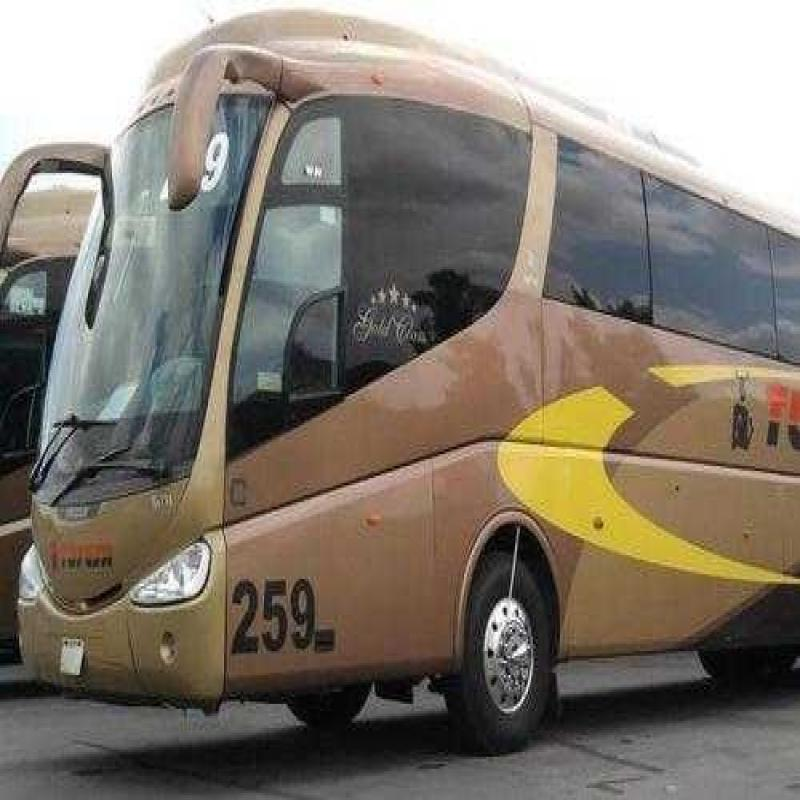bus: (13, 19, 800, 704)
